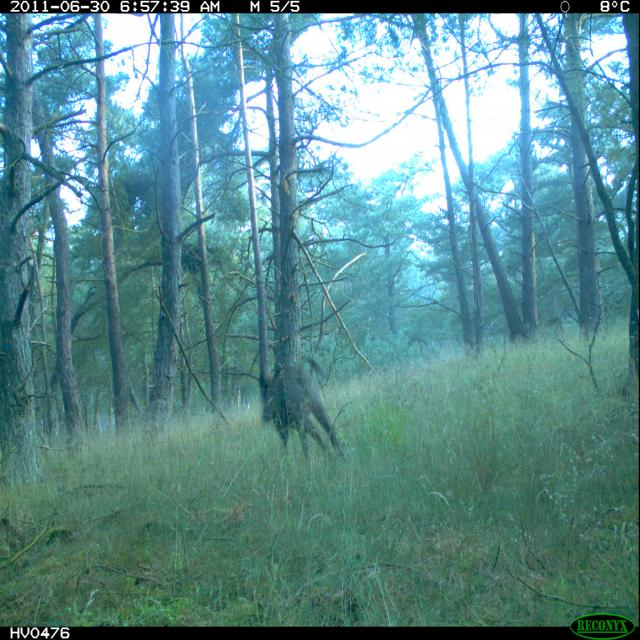boar: (243, 356, 370, 475)
